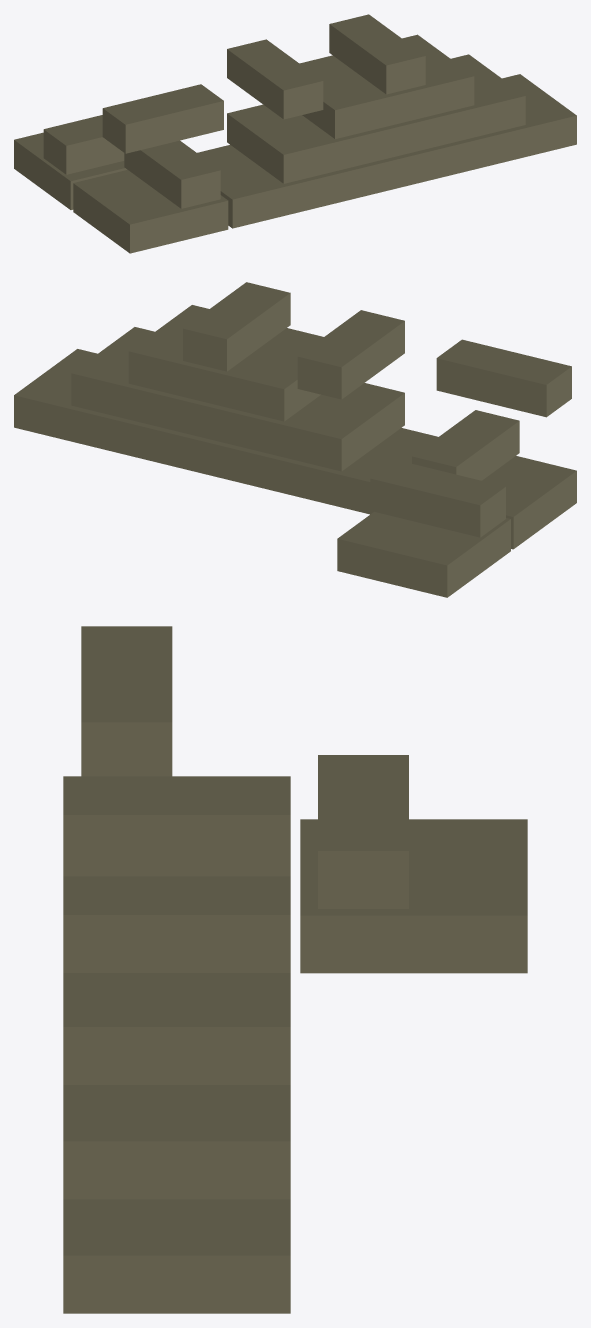
File: SM_SacosRemate_v1_Talud_e0_Sano_LOD1.fbx
3 renders of one model, top to bottom at view 1: azimuth 30°, elevation 25°; view 2: azimuth 150°, elevation 25°; view 3: azimuth 270°, elevation 25°, orthographic. The views are drawn at different scales.
Visible parts, largest first — view 1: SM_sacos_piezas_v24_LOD1; view 2: SM_sacos_piezas_v24_LOD1; view 3: SM_sacos_piezas_v24_LOD1.
Boxes of the visible parts, left/top/right/bottom form: SM_sacos_piezas_v24_LOD1: left=14, top=14, right=576, bottom=253; SM_sacos_piezas_v24_LOD1: left=14, top=282, right=576, bottom=597; SM_sacos_piezas_v24_LOD1: left=63, top=626, right=527, bottom=1313.
Size of the model in its own units: 4.36 by 1.17 by 1.96.
